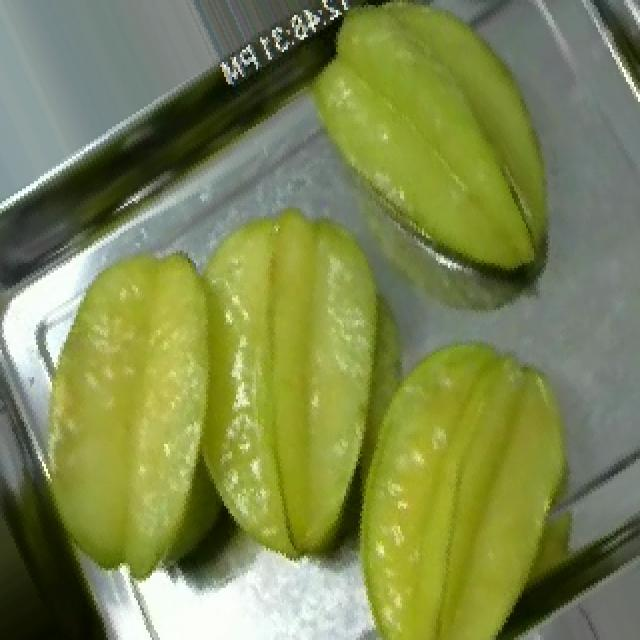fruit: (0, 99, 564, 613), (74, 174, 470, 580), (274, 0, 612, 320), (316, 300, 632, 640)
